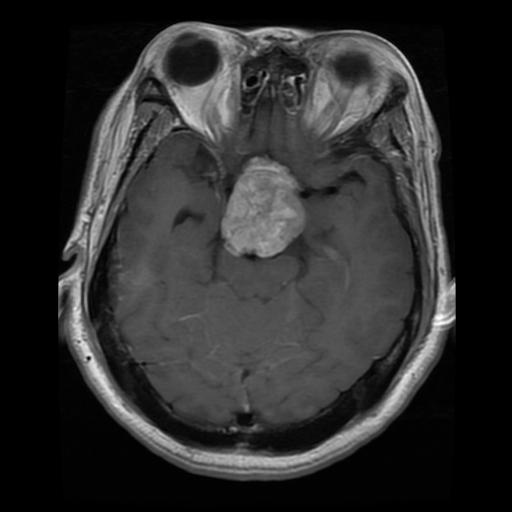Pituirity_tumour: (221, 157, 304, 253)
